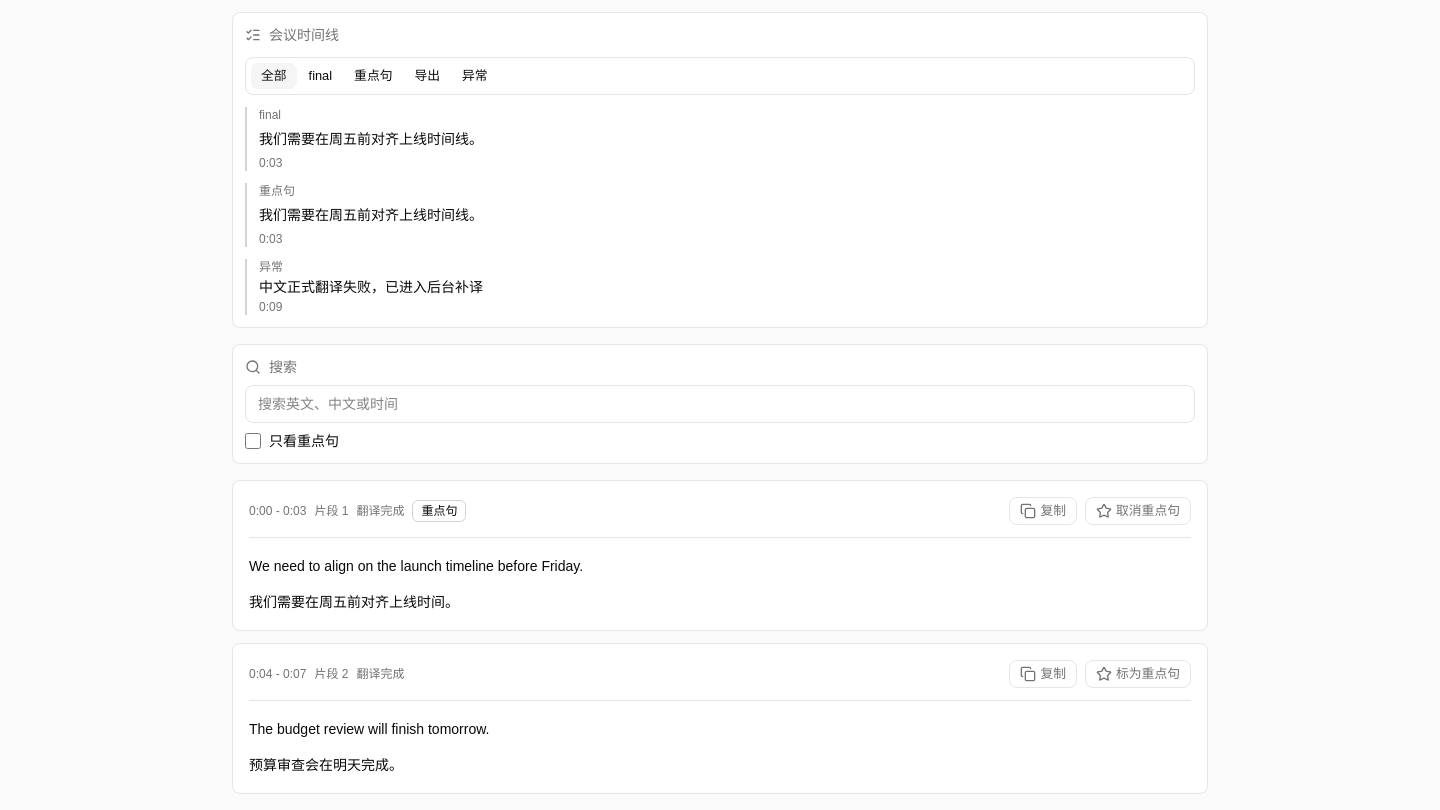
Scenario: ArchivePage › marks an archive segment as a key sentence and updates local state
The width and height of the screenshot is (1440, 810).
(page scrolled)
Click the button with aria-label "标记片段 2 为重点句" at (1138, 674), box [1085,660,1191,688]
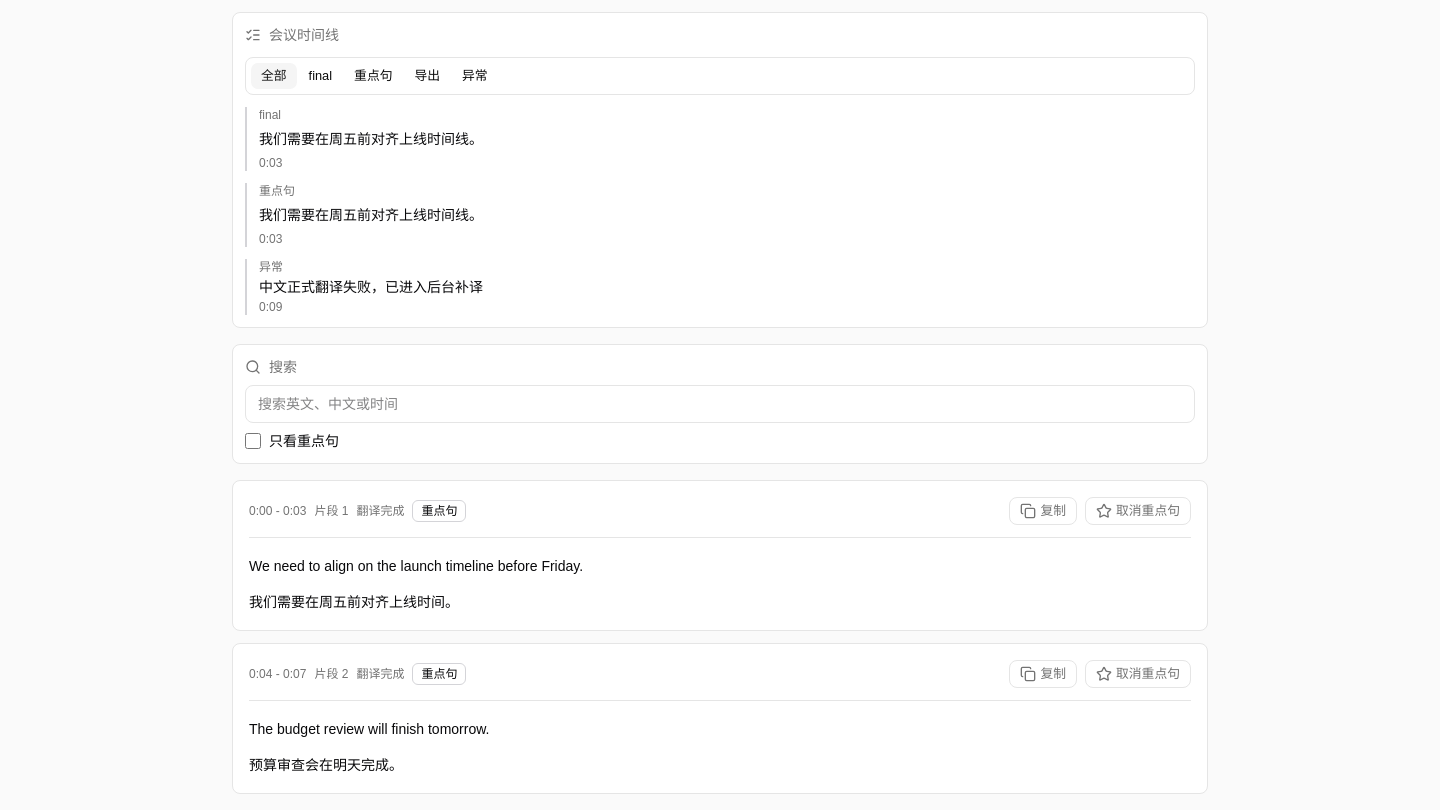
Result: the text "重点句" in the row of "0:07" is shown at [421,667,457,681]
Result: the button with aria-label "取消片段 2 重点句" is shown at [1085,660,1191,688]
